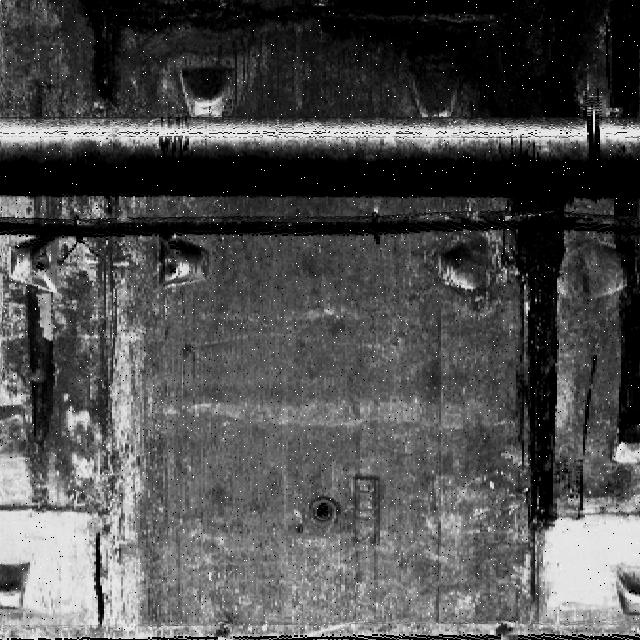leakage: (54, 1, 639, 123), (513, 196, 573, 616), (601, 187, 639, 460), (17, 284, 67, 457)
